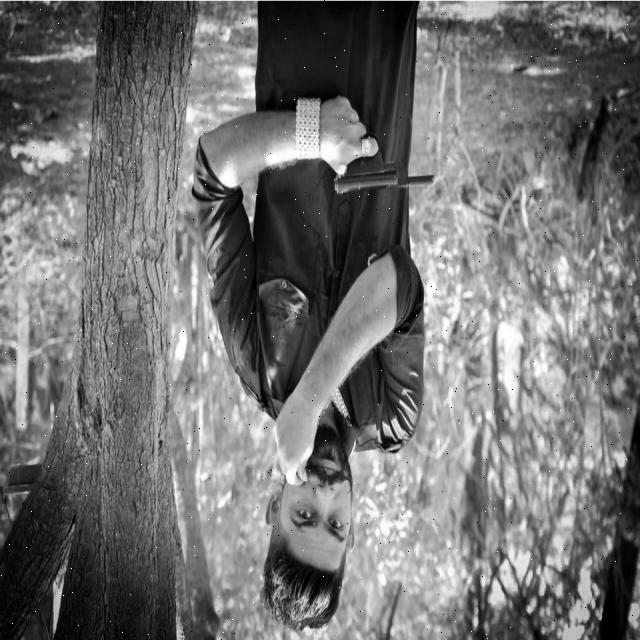gun: (322, 94, 439, 207)
